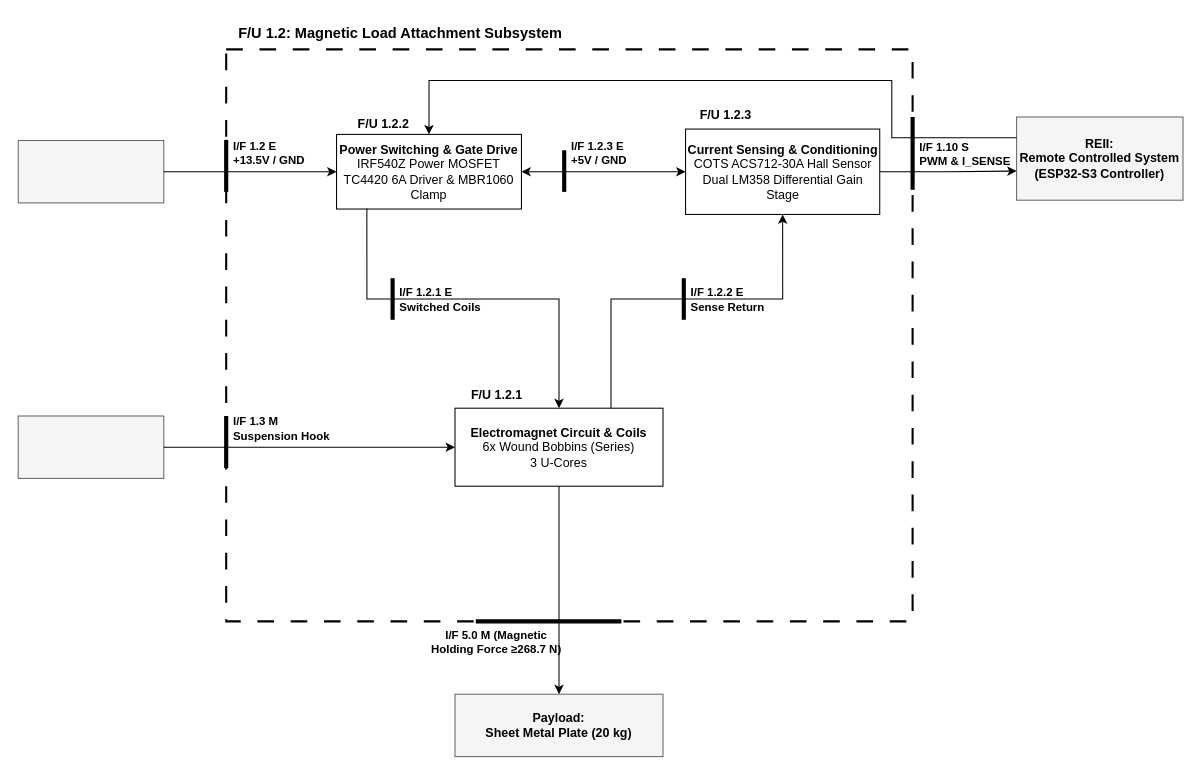
The diagram is 1201 pixels wide and 775 high, and some of its shapes have lost their labels. Here are the shapes that lost their labels. From the top down, the box of each, then its label:
(17, 139, 164, 203): EEII I: Drive Electronics (COTS Power Supply)
(17, 415, 164, 478): MCTR II: Spooling System (Hoist Cable Hook)
